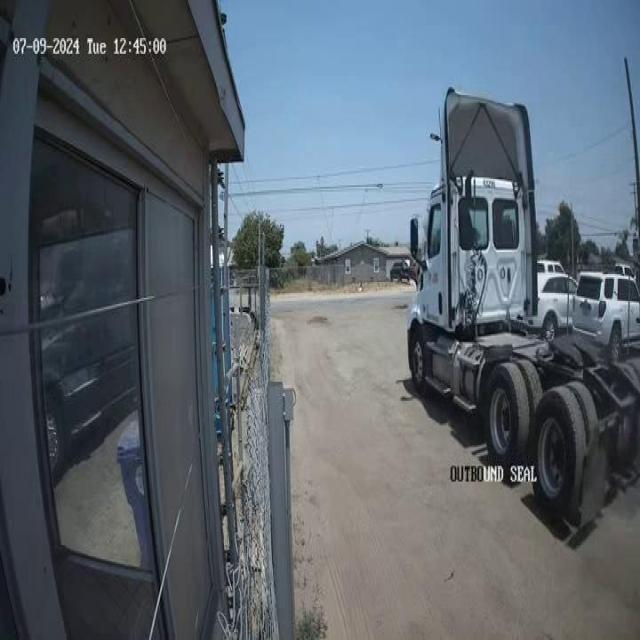TRUCK_OUT: (406, 85, 639, 530)
